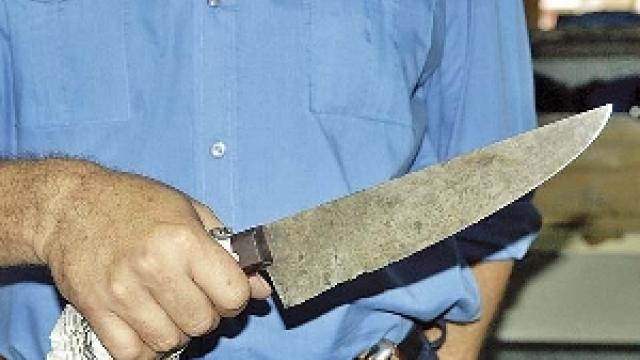knife: (139, 98, 624, 339)
